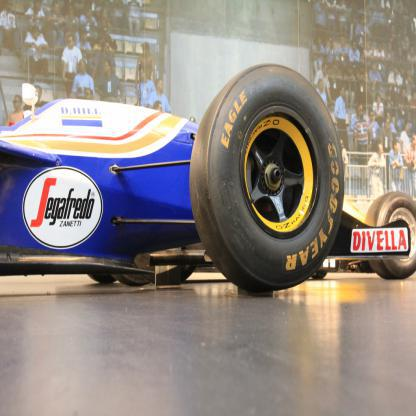car: (1, 63, 416, 294)
